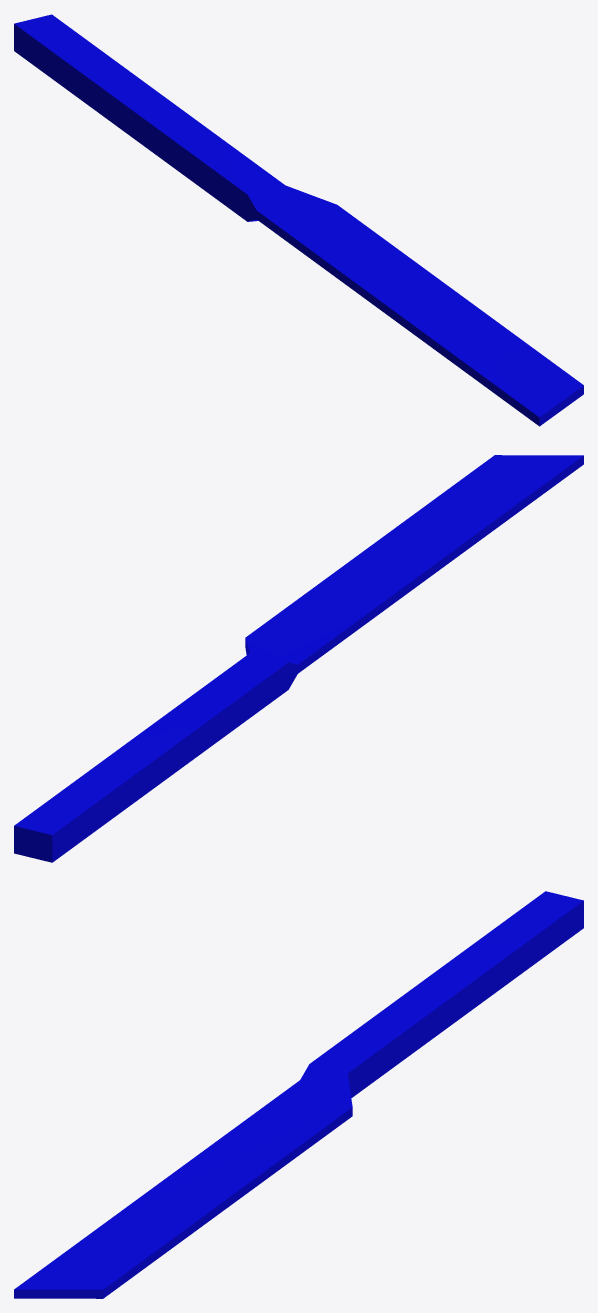
File: SM_Prop_FoodKnife.fbx
3 views of the same model, one above another, from view 1: azimuth 30°, elevation 25°; view 2: azimuth 150°, elevation 25°; view 3: azimuth 330°, elevation 25° (orthographic).
Visible parts, largest first — view 1: SM_Prop_FoodKnife; view 2: SM_Prop_FoodKnife; view 3: SM_Prop_FoodKnife.
Part boxes in pixels (x1,y1,x2,y2): SM_Prop_FoodKnife: [14, 14, 583, 426]; SM_Prop_FoodKnife: [14, 455, 583, 862]; SM_Prop_FoodKnife: [14, 891, 583, 1298].
Size of the model in its own units: 1.75 by 0.6889 by 24.
